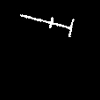double_crochet: (20, 15, 73, 36)
